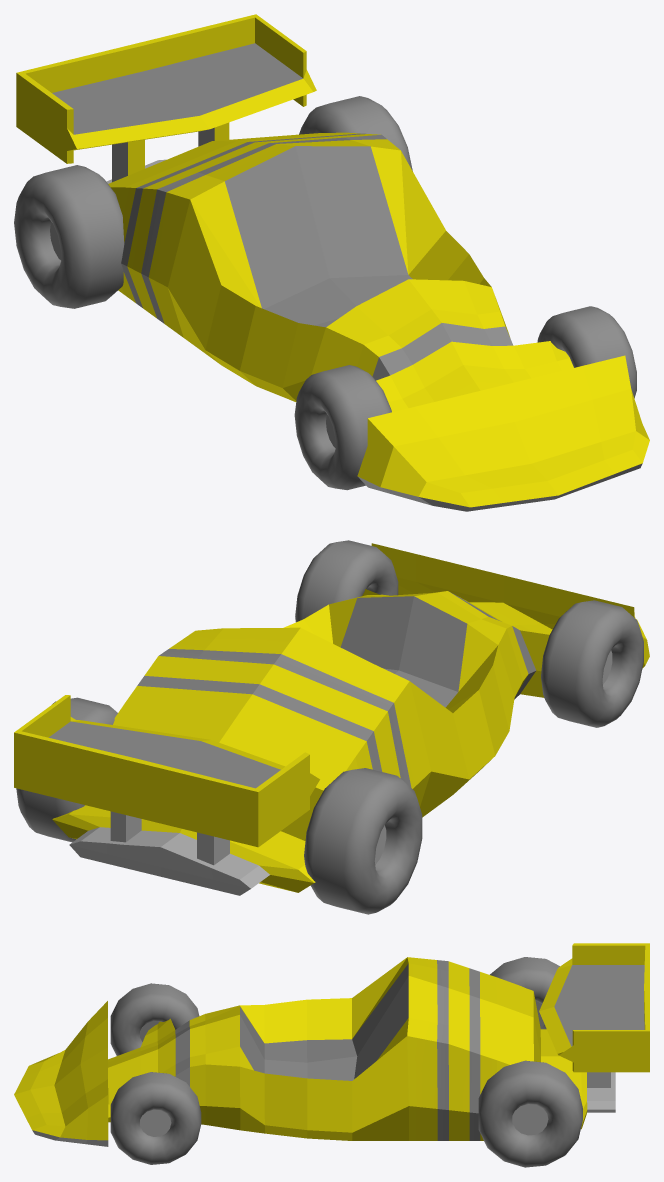
The picture shows the model from 3 angles, top to bottom: view 1: azimuth 30°, elevation 25°; view 2: azimuth 150°, elevation 25°; view 3: azimuth 270°, elevation 25°; orthographic projection. The views are drawn at different scales.
Parts seen in each view (by area): view 1: pCube7; view 2: pCube7; view 3: pCube7.
Boxes of the visible parts, left/top/right/bottom form: pCube7: left=14, top=14, right=649, bottom=511; pCube7: left=14, top=540, right=649, bottom=914; pCube7: left=14, top=943, right=649, bottom=1167.
Bounding box in the file's own units: 6.2 × 3.16 × 13.11.
